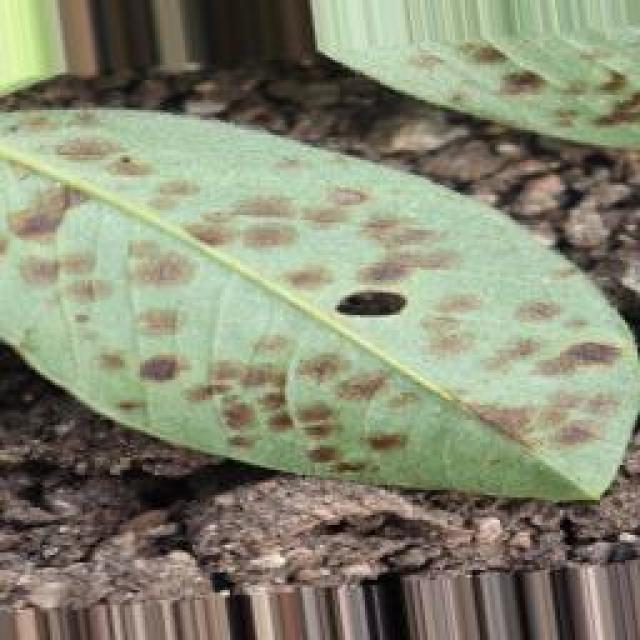Whitefly: (0, 46, 640, 552)
